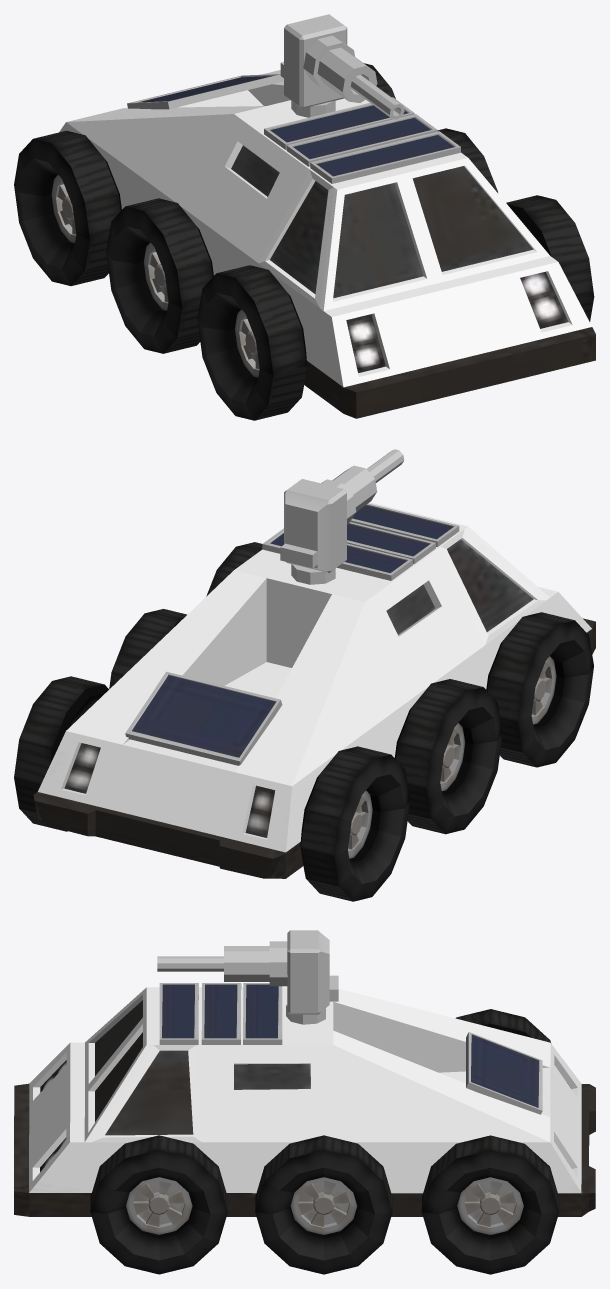
File: Truck01.fbx
3 views of the same model, one above another, from view 1: azimuth 30°, elevation 25°; view 2: azimuth 150°, elevation 25°; view 3: azimuth 270°, elevation 25° (orthographic). The views are drawn at different scales.
Visible parts, largest first — view 1: Truck.001, Missile; view 2: Truck.001, Missile; view 3: Truck.001, Missile.
Part boxes in pixels (x1,y1,x2,y2): Truck.001: (14, 63, 595, 420); Missile: (280, 14, 404, 119); Truck.001: (14, 502, 595, 901); Missile: (280, 449, 404, 584); Truck.001: (14, 983, 595, 1274); Missile: (157, 930, 338, 1024).
Size of the model in its own units: 364 by 310 by 618.
